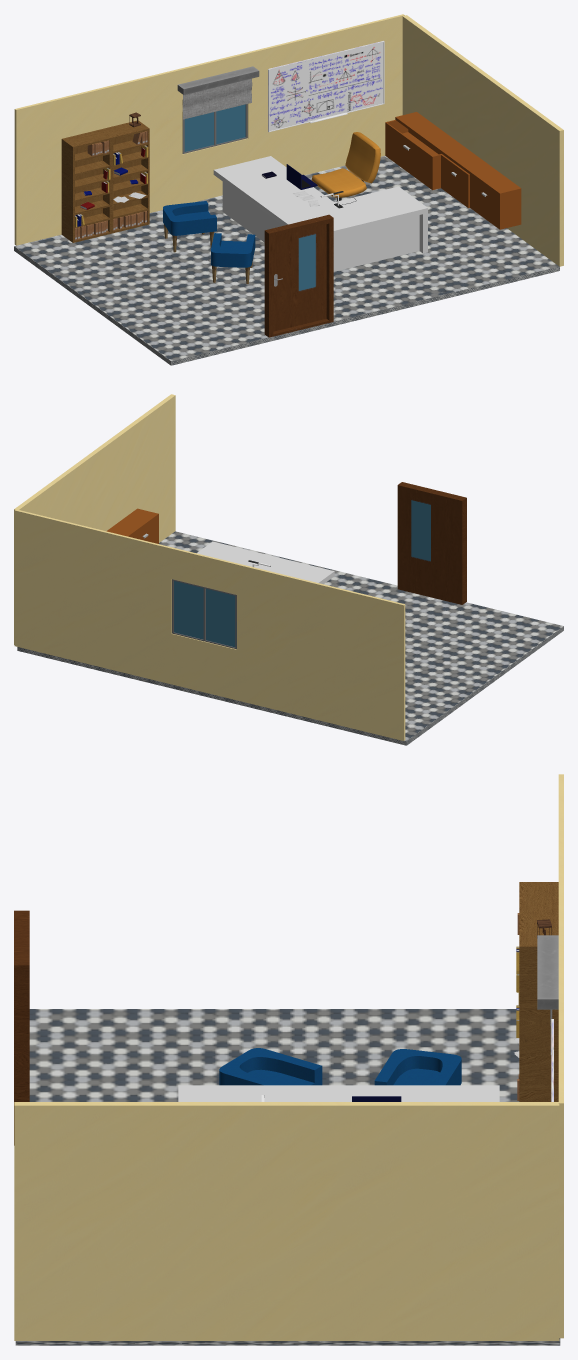
Rendered from DespachoJulia.fbx.
3 renders of one model, top to bottom at view 1: azimuth 30°, elevation 25°; view 2: azimuth 150°, elevation 25°; view 3: azimuth 270°, elevation 25°, orthographic. The views are drawn at different scales.
Parts seen in each view (by area): view 1: Suelo.001, Pared 1.001, Pared 2.001, Mesa despacho, Cajones.002, Puerta de despacho.001, Pizarra_Despacho_Julia.002, Estanteria1.002, Estanteria002.002, Silla de despacho.001, Ventanas.001, Cortinas.001 (+4 smaller); view 2: Pared 1.001, Suelo.001, Pared 2.001, Puerta de despacho.001, Ventanas.001, Mesa despacho, Cajones.002; view 3: Pared 2.001, Suelo.001, Estanteria002.002, Mesa despacho, Pared 1.001, Puerta de despacho.001, Silla 003.002, Silla 002.002, Sobreventana.001, Estanteria1.002.
Part boxes in pixels (x1,y1,x2,y2): Suelo.001: [14, 156, 559, 365]; Pared 1.001: [14, 14, 404, 245]; Pared 2.001: [402, 15, 563, 266]; Mesa despacho: [213, 156, 427, 271]; Cajones.002: [385, 112, 521, 229]; Puerta de despacho.001: [264, 214, 333, 337]; Pizarra_Despacho_Julia.002: [269, 42, 383, 131]; Estanteria1.002: [61, 129, 111, 242]; Estanteria002.002: [100, 120, 149, 233]; Silla de despacho.001: [311, 132, 380, 201]; Ventanas.001: [182, 100, 247, 153]; Cortinas.001: [182, 78, 252, 119]; Pared 1.001: [14, 509, 405, 740]; Suelo.001: [17, 531, 563, 745]; Pared 2.001: [14, 394, 175, 644]; Puerta de despacho.001: [397, 482, 466, 604]; Ventanas.001: [172, 579, 236, 649]; Mesa despacho: [197, 541, 334, 584]; Cajones.002: [106, 508, 158, 543]; Pared 2.001: [14, 1102, 559, 1340]; Suelo.001: [15, 1009, 560, 1345]; Estanteria002.002: [519, 914, 558, 1101]; Mesa despacho: [178, 1085, 499, 1101]; Pared 1.001: [558, 774, 563, 1338]; Puerta de despacho.001: [14, 910, 29, 1145]; Silla 003.002: [219, 1048, 322, 1085]; Silla 002.002: [374, 1049, 461, 1085]; Sobreventana.001: [537, 935, 558, 1009]; Estanteria1.002: [519, 882, 558, 914].
Bounding box in the file's own units: 909 × 311 × 636.
